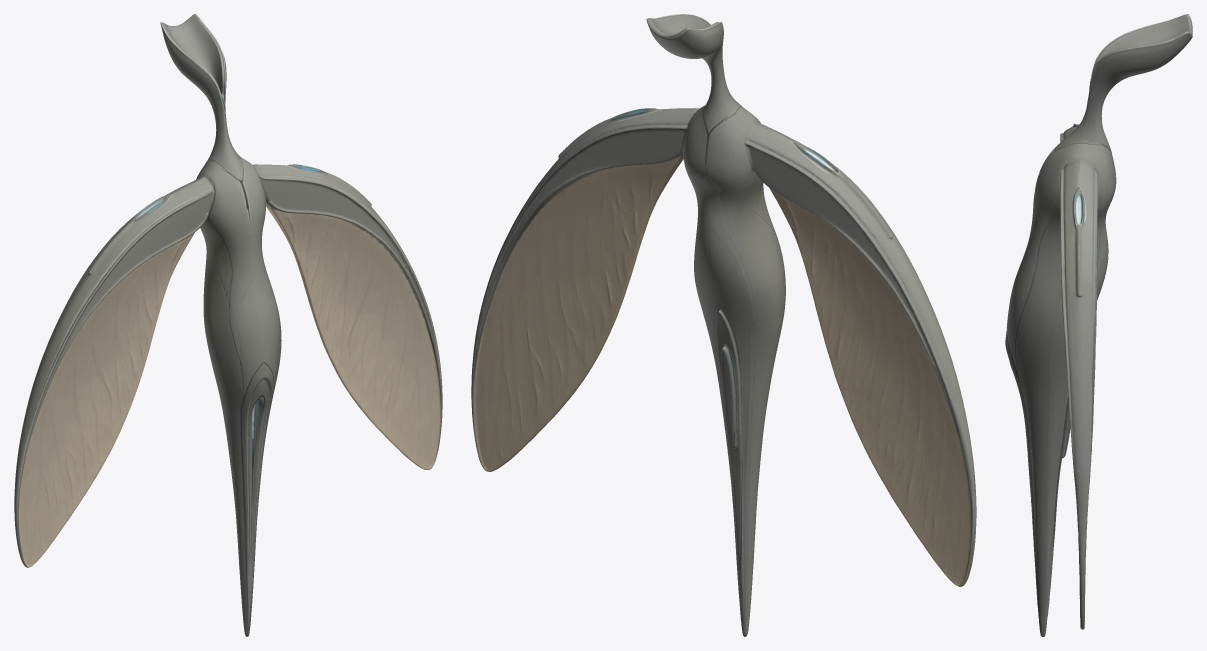
Rendered from tsukimi_bird.glb.
3 views of the same model, side by side, from view 1: azimuth 30°, elevation 25°; view 2: azimuth 150°, elevation 25°; view 3: azimuth 270°, elevation 25° (orthographic). The views are drawn at different scales.
Bounding box in the file's own units: 1.49 × 1.9 × 0.5255.
Materials: 1 (1 with a texture image).
